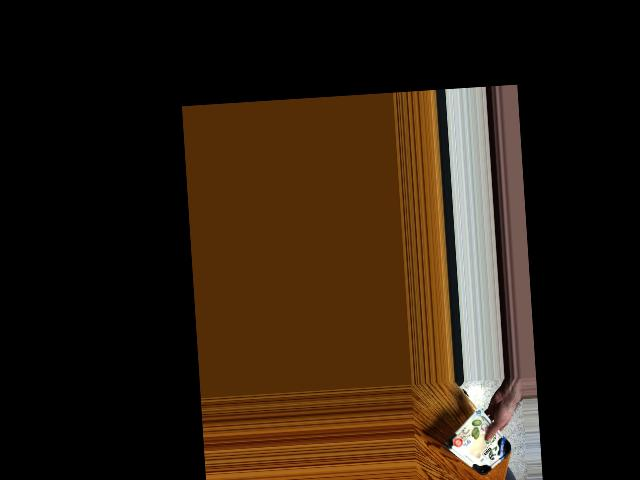cheese: (450, 426, 509, 468)
